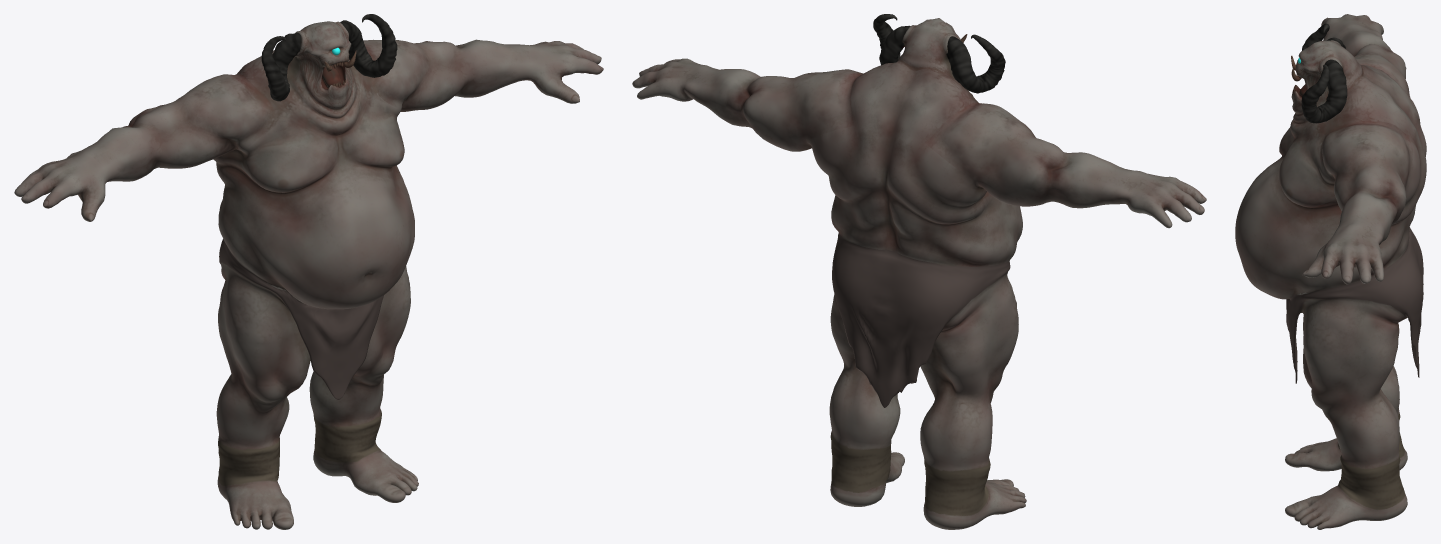
The model's file is FatGuy_L_copy.fbx.
The picture shows the model from 3 angles, left to right: view 1: azimuth 30°, elevation 25°; view 2: azimuth 150°, elevation 25°; view 3: azimuth 270°, elevation 25°; orthographic projection. The views are drawn at different scales.
Parts seen in each view (by area): view 1: Body_L, B_L; view 2: Body_L, B_L; view 3: Body_L, B_L.
Part boxes in pixels (box(x1,y1,x2,y2)): Body_L: box(14, 21, 603, 529); B_L: box(261, 14, 397, 101); Body_L: box(632, 18, 1206, 529); B_L: box(873, 14, 1005, 93); Body_L: box(1235, 14, 1426, 529); B_L: box(1301, 23, 1347, 123).
Size of the model in its own units: 112 by 88.93 by 34.32.
Materials: 2 (2 with a texture image).
